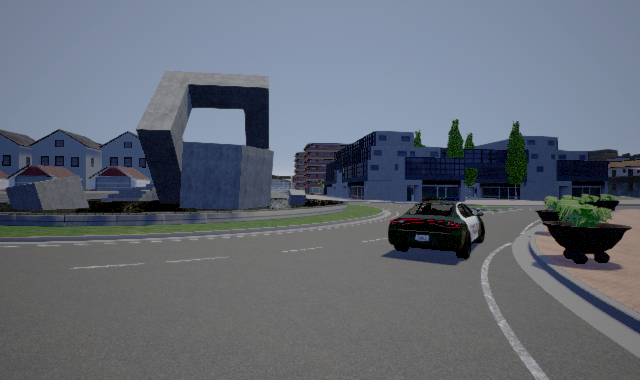vehicle: (388, 197, 485, 259)
